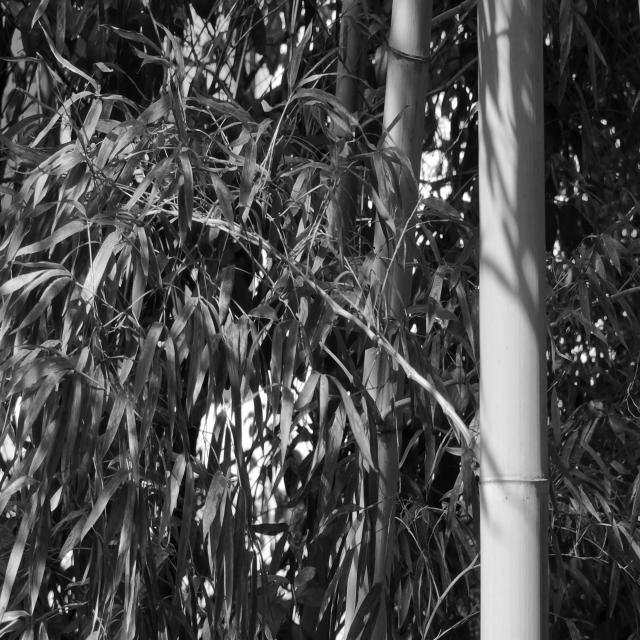Bamboo-shoots: (479, 0, 548, 640)
